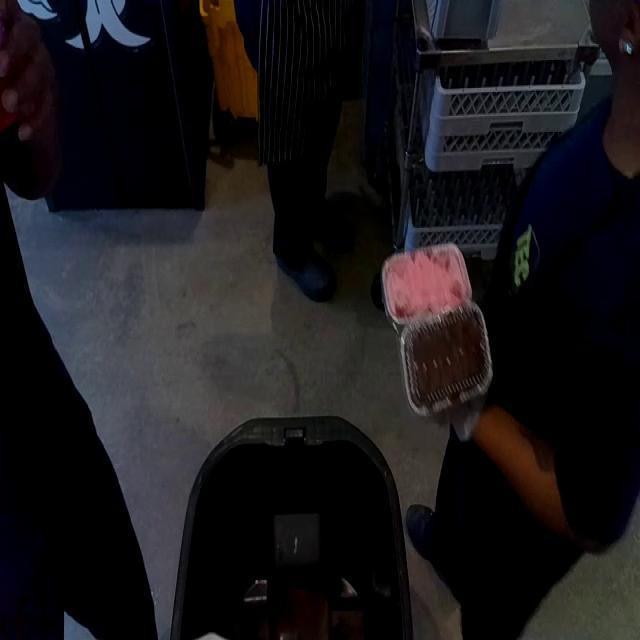Organik: (370, 212, 517, 442)
